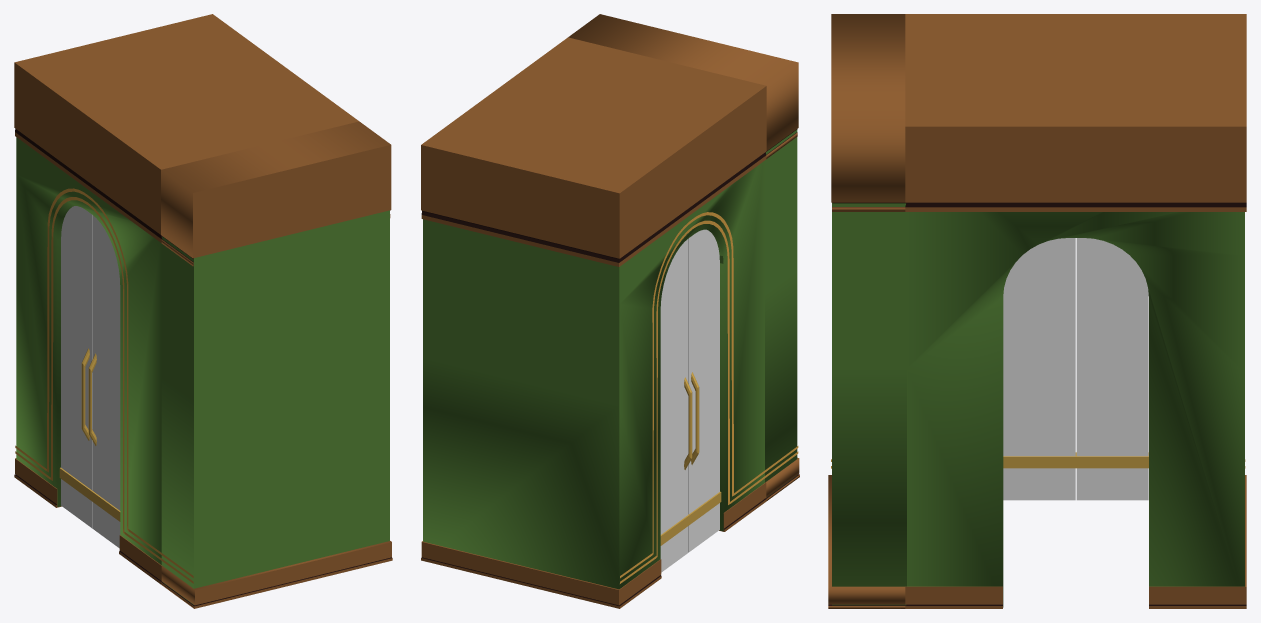
File: Door.fbx
3 renders of one model, left to right at view 1: azimuth 30°, elevation 25°; view 2: azimuth 150°, elevation 25°; view 3: azimuth 270°, elevation 25°, orthographic. The views are drawn at different scales.
Parts seen in each view (by area): view 1: wall, leftDoor, rightDooor; view 2: wall, rightDooor, leftDoor; view 3: wall, leftDoor, rightDooor.
Part boxes in pixels (box(x1,y1,x2,y2)): wall: box(14, 14, 392, 608); leftDoor: box(59, 206, 92, 527); rightDooor: box(88, 215, 120, 548); wall: box(421, 14, 799, 608); rightDooor: box(688, 229, 721, 552); leftDoor: box(660, 239, 692, 572); wall: box(828, 14, 1246, 608); leftDoor: box(1076, 238, 1148, 500); rightDooor: box(1003, 238, 1075, 500).
Size of the model in its own units: 1294 by 2558 by 2011.
